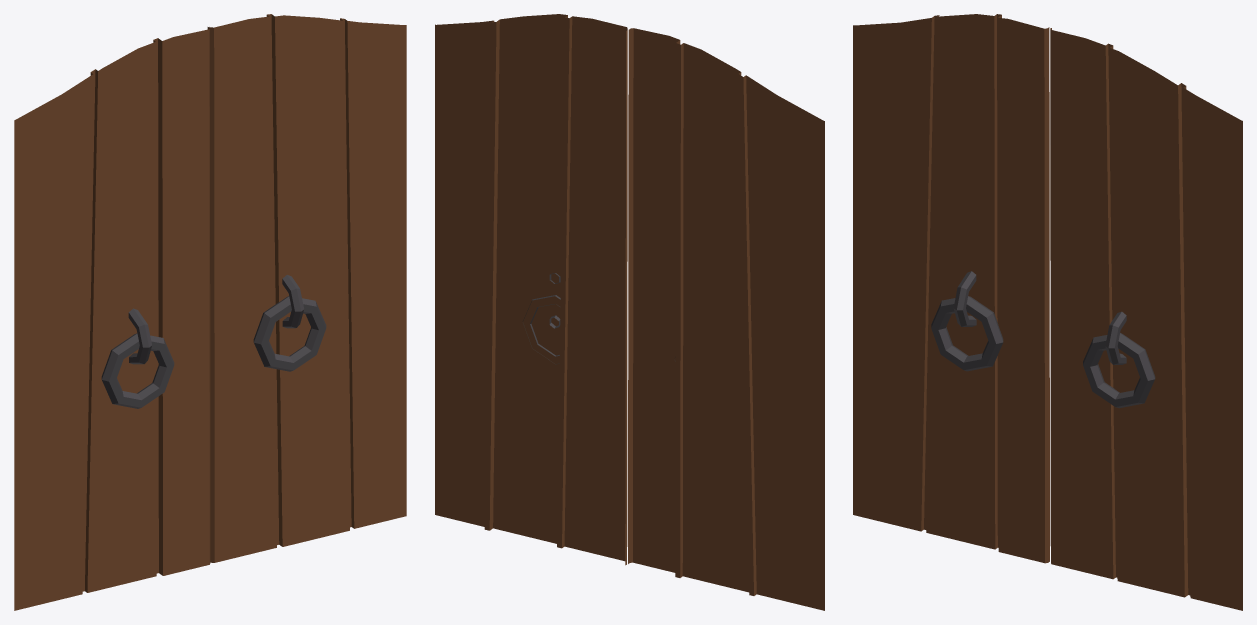
File: entrance_doors.glb
3 views of the same model, side by side, from view 1: azimuth 30°, elevation 25°; view 2: azimuth 150°, elevation 25°; view 3: azimuth 330°, elevation 25° (orthographic).
Parts seen in each view (by area): view 1: RightDoor.002, LeftDoor.002, leftHandleBottom, rightHandleBottom, leftHandle, rightHandle; view 2: LeftDoor.002, RightDoor.002; view 3: LeftDoor.002, RightDoor.002, leftHandleBottom, rightHandleBottom, leftHandle, rightHandle.
Boxes of the visible parts, x1=… form: RightDoor.002: x1=209, y1=14, x2=406, y2=562; LeftDoor.002: x1=14, y1=27, x2=210, y2=610; leftHandleBottom: x1=101, y1=333, x2=174, y2=408; rightHandleBottom: x1=253, y1=296, x2=326, y2=371; leftHandle: x1=128, y1=308, x2=152, y2=364; rightHandle: x1=282, y1=275, x2=304, y2=328; LeftDoor.002: x1=628, y1=28, x2=824, y2=610; RightDoor.002: x1=435, y1=14, x2=627, y2=565; LeftDoor.002: x1=853, y1=14, x2=1049, y2=563; RightDoor.002: x1=1050, y1=28, x2=1242, y2=610; leftHandleBottom: x1=931, y1=296, x2=1003, y2=371; rightHandleBottom: x1=1083, y1=333, x2=1155, y2=408; leftHandle: x1=953, y1=271, x2=976, y2=326; rightHandle: x1=1105, y1=311, x2=1126, y2=364.
Bounding box in the file's own units: 2.28 × 3 × 0.184.
